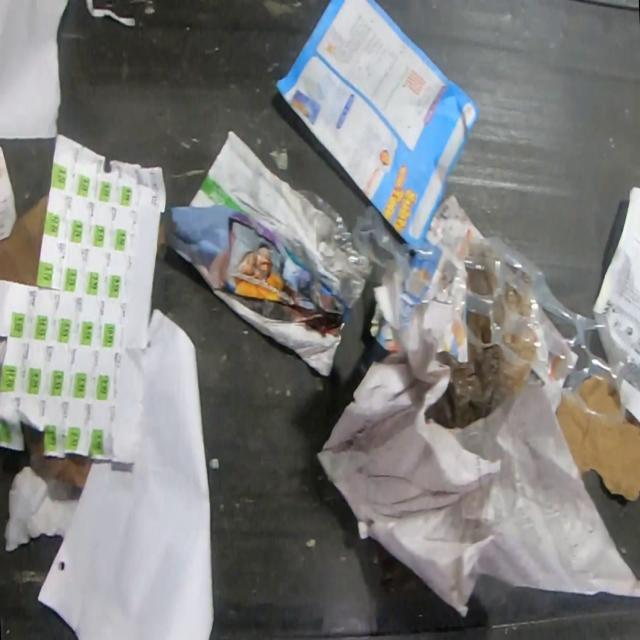cardboard: (558, 396, 640, 502), (22, 423, 94, 490), (0, 193, 48, 287)
soft_plastic: (350, 204, 629, 429), (294, 188, 373, 311), (426, 343, 530, 429), (505, 285, 530, 316), (503, 335, 534, 359), (467, 311, 490, 343), (468, 269, 491, 295)
